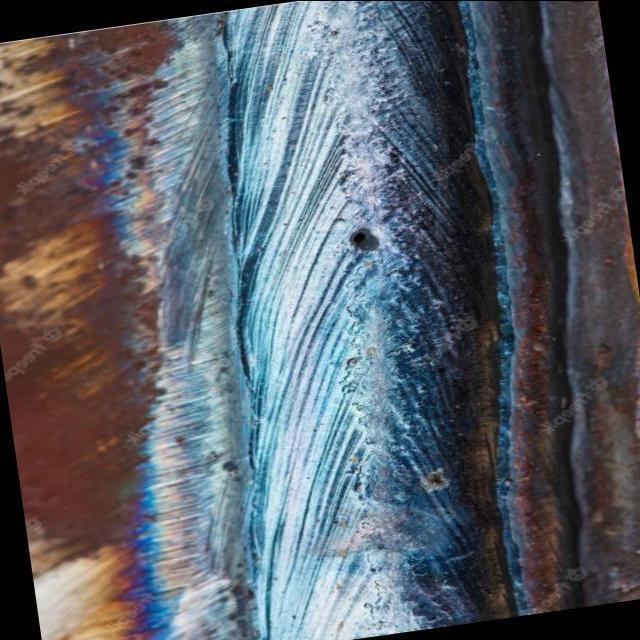defect: (344, 220, 387, 258)
